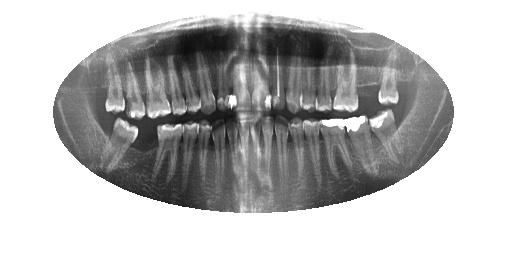i10decay: (228, 119, 239, 182)
i11decay: (211, 118, 227, 191)
i12decay: (198, 120, 211, 193)
i13healthy: (179, 120, 199, 189)
i14healthy: (155, 121, 183, 182)
i15loss: (138, 126, 156, 169)
i16healthy: (103, 117, 138, 170)
i1healthy: (369, 108, 407, 164)
i2healthy: (344, 114, 372, 178)
i3healthy: (319, 116, 352, 178)
i4healthy: (302, 118, 326, 188)
i5decay: (288, 117, 307, 178)
i6decay: (273, 114, 289, 178)
i7healthy: (260, 117, 275, 183)
i8decay: (248, 117, 262, 185)
i9decay: (237, 119, 251, 186)
u10decay: (214, 46, 234, 113)
u11decay: (198, 49, 216, 116)
u12decay: (183, 55, 204, 114)
u13healthy: (166, 50, 189, 115)
u14healthy: (145, 53, 171, 120)
u15decay: (123, 58, 146, 120)
u16healthy: (104, 50, 127, 115)
u1healthy: (378, 49, 402, 108)
u2loss: (359, 59, 380, 107)
u3healthy: (333, 48, 359, 114)
u4healthy: (315, 47, 333, 113)
u5healthy: (300, 44, 316, 111)
u6healthy: (283, 39, 300, 115)
u7decay: (271, 40, 285, 112)
u8decay: (229, 44, 251, 114)
u9healthy: (242, 51, 261, 115)
